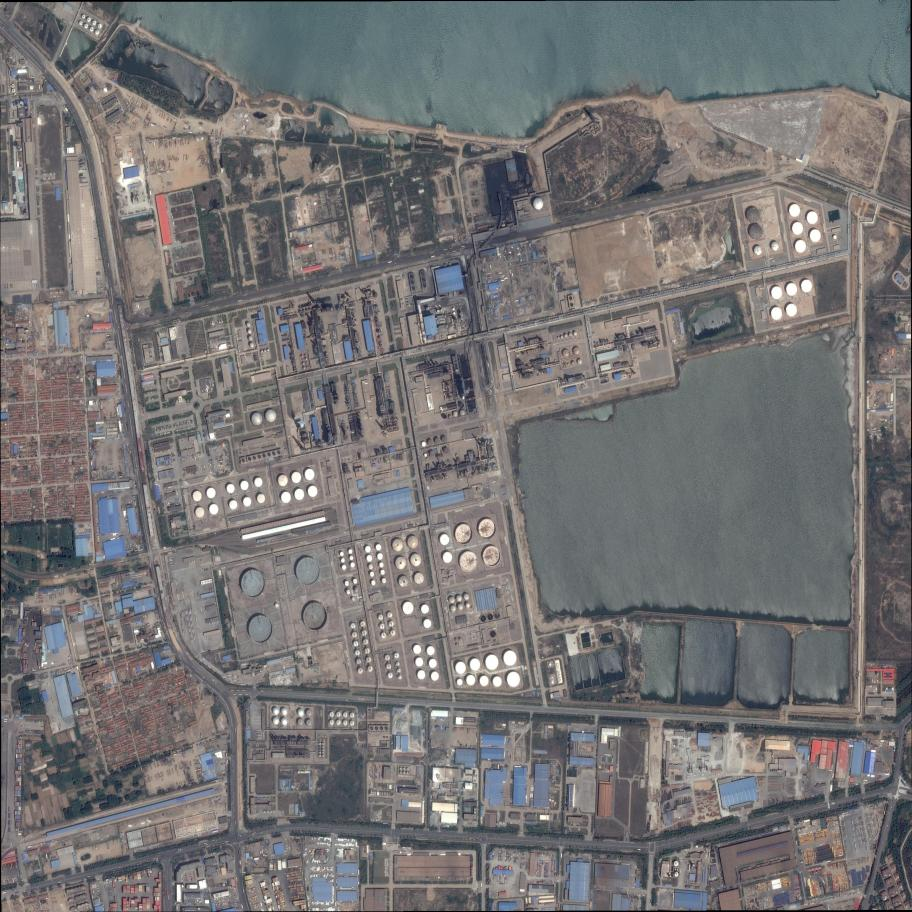storage-tank: (303, 603, 327, 632), (296, 556, 319, 586), (248, 615, 272, 643), (241, 570, 265, 598), (483, 546, 501, 567), (460, 551, 478, 572), (456, 524, 473, 545), (479, 519, 496, 539), (507, 671, 520, 687), (486, 654, 499, 670), (749, 224, 762, 240), (747, 207, 760, 223), (504, 650, 516, 666), (771, 286, 783, 300), (809, 229, 821, 243), (789, 204, 801, 217), (410, 553, 421, 567), (807, 211, 818, 225), (795, 239, 806, 253), (265, 410, 277, 422), (786, 304, 797, 317), (392, 538, 403, 551), (407, 536, 418, 549), (771, 307, 782, 320), (469, 658, 480, 671), (801, 280, 812, 293), (786, 283, 797, 296), (792, 222, 803, 235), (396, 556, 406, 570), (455, 662, 466, 674), (403, 602, 414, 614), (252, 412, 262, 425), (305, 469, 315, 481), (294, 488, 304, 500), (281, 491, 291, 503), (308, 486, 318, 498), (533, 198, 543, 210), (195, 507, 205, 518), (291, 472, 301, 483), (278, 475, 288, 486), (443, 552, 453, 563), (399, 576, 409, 587), (414, 573, 424, 584), (440, 534, 449, 546), (192, 491, 202, 501), (207, 488, 216, 499), (493, 676, 502, 687), (480, 675, 489, 686), (466, 674, 475, 685), (210, 503, 218, 515), (226, 484, 235, 494), (254, 477, 263, 487), (243, 497, 252, 507), (257, 493, 265, 504), (423, 619, 432, 628), (417, 670, 426, 679), (241, 480, 249, 490), (229, 500, 237, 510), (421, 604, 429, 614), (429, 658, 437, 668), (416, 657, 424, 667), (427, 646, 435, 656), (413, 644, 421, 654), (771, 242, 779, 251), (754, 246, 762, 255), (562, 349, 570, 357), (431, 671, 439, 679), (573, 347, 580, 355), (281, 708, 288, 715), (306, 709, 312, 717), (273, 717, 279, 725), (273, 707, 279, 715), (458, 603, 464, 611), (377, 553, 383, 560), (376, 544, 382, 551), (365, 546, 371, 553), (356, 658, 362, 665), (306, 719, 312, 726), (298, 719, 304, 726), (298, 709, 304, 716), (281, 718, 287, 725), (457, 679, 463, 686), (456, 595, 462, 602), (449, 597, 455, 604), (460, 409, 466, 416), (366, 657, 372, 663), (354, 650, 360, 656), (464, 594, 470, 600), (386, 664, 392, 670), (367, 555, 372, 562), (378, 614, 383, 621), (358, 667, 363, 674), (451, 605, 456, 612), (343, 719, 348, 726), (444, 447, 449, 454), (430, 450, 435, 457), (428, 439, 433, 446), (346, 589, 351, 595), (349, 555, 354, 561), (379, 562, 384, 568), (391, 630, 396, 636), (389, 621, 394, 627), (380, 623, 385, 629), (387, 612, 392, 618), (367, 666, 372, 672), (371, 580, 376, 586), (365, 648, 370, 654), (363, 639, 368, 645), (353, 641, 359, 646), (362, 630, 367, 636), (360, 621, 365, 627), (352, 632, 357, 638), (351, 623, 356, 629), (674, 861, 679, 867), (577, 359, 582, 365), (350, 720, 355, 726), (336, 719, 341, 725), (329, 719, 334, 725), (343, 712, 348, 718), (336, 711, 341, 717), (388, 672, 393, 678), (394, 653, 399, 659), (385, 655, 390, 661), (442, 436, 447, 442), (435, 438, 440, 444), (453, 411, 458, 417), (459, 402, 464, 408), (354, 587, 359, 592), (348, 549, 353, 554), (370, 572, 375, 577), (380, 570, 385, 575), (369, 564, 373, 570), (353, 578, 357, 584), (351, 562, 355, 568), (342, 564, 346, 570), (382, 632, 386, 638), (382, 578, 386, 584), (250, 342, 254, 348), (249, 335, 253, 341), (95, 29, 99, 35), (90, 26, 94, 32), (92, 20, 96, 26), (84, 23, 88, 29), (87, 17, 91, 23), (350, 712, 354, 718), (330, 711, 334, 717), (345, 581, 349, 586), (341, 558, 345, 563), (340, 551, 344, 556), (98, 23, 102, 28), (675, 872, 679, 877), (466, 603, 470, 608), (397, 668, 401, 673), (422, 442, 426, 447), (448, 414, 452, 419), (248, 330, 252, 334), (11, 84, 15, 88), (79, 21, 83, 25), (564, 334, 568, 338), (571, 361, 575, 365), (398, 675, 402, 679), (396, 662, 400, 666), (82, 15, 86, 19), (247, 322, 250, 327), (352, 597, 355, 601), (12, 89, 15, 93), (275, 603, 278, 607), (834, 235, 837, 239), (574, 332, 577, 336), (569, 333, 572, 337), (403, 767, 406, 771), (424, 453, 427, 457), (303, 367, 306, 370), (267, 349, 270, 352), (406, 768, 409, 771), (453, 312, 456, 315), (452, 308, 455, 311), (561, 335, 563, 339), (305, 358, 308, 360), (303, 362, 305, 365), (305, 354, 307, 357), (301, 355, 303, 358), (264, 349, 266, 352), (261, 350, 263, 353), (549, 663, 551, 666), (400, 771, 402, 774), (400, 767, 402, 770), (403, 771, 405, 774), (407, 772, 409, 775), (307, 367, 309, 369), (306, 362, 308, 364), (558, 337, 560, 339)
